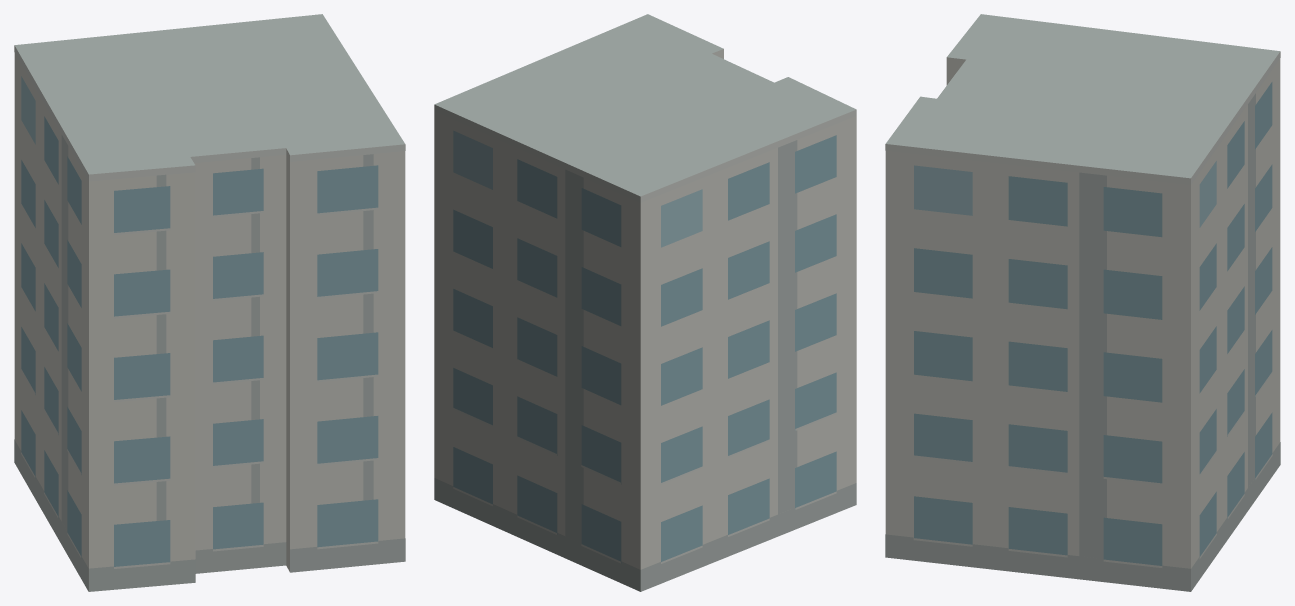
The model's file is survey-upis-32830281.glb.
The picture shows the model from 3 angles, left to right: view 1: azimuth 30°, elevation 25°; view 2: azimuth 150°, elevation 25°; view 3: azimuth 270°, elevation 25°; orthographic projection. The views are drawn at different scales.
Parts seen in each view (by area): view 1: survey-upis-32830281.tmp; view 2: survey-upis-32830281.tmp; view 3: survey-upis-32830281.tmp.
Boxes of the visible parts, bbox=[...] form: survey-upis-32830281.tmp: bbox=[14, 14, 405, 591]; survey-upis-32830281.tmp: bbox=[434, 14, 856, 591]; survey-upis-32830281.tmp: bbox=[885, 14, 1280, 591].
Size of the model in its own units: 12.67 by 14.86 by 12.87.
